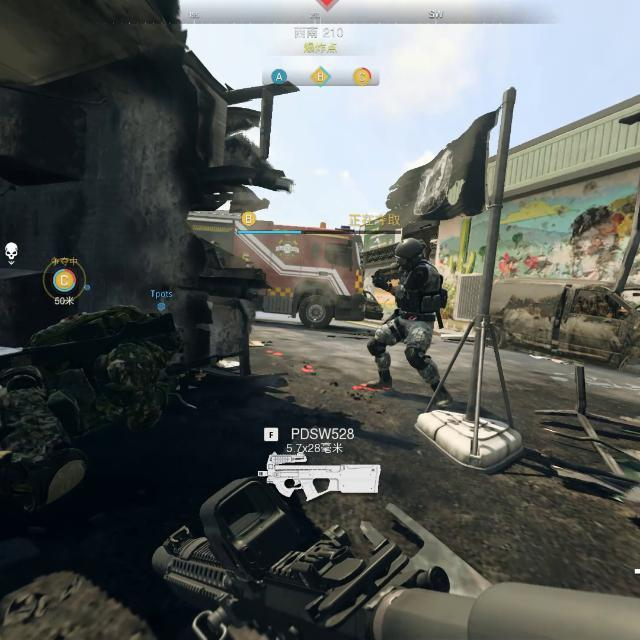MW2_body: (367, 239, 449, 409)
